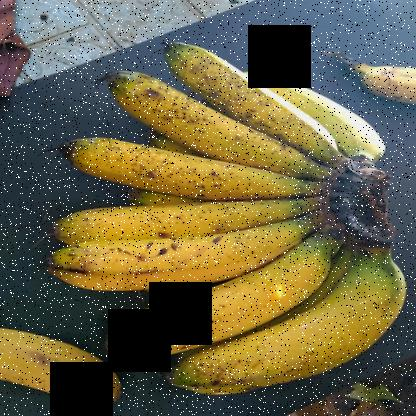ripe: (160, 260, 413, 413), (124, 223, 338, 356), (30, 201, 315, 295), (93, 70, 328, 172), (158, 38, 348, 158), (49, 174, 320, 247), (29, 140, 327, 192), (1, 322, 144, 410), (329, 50, 415, 110)
